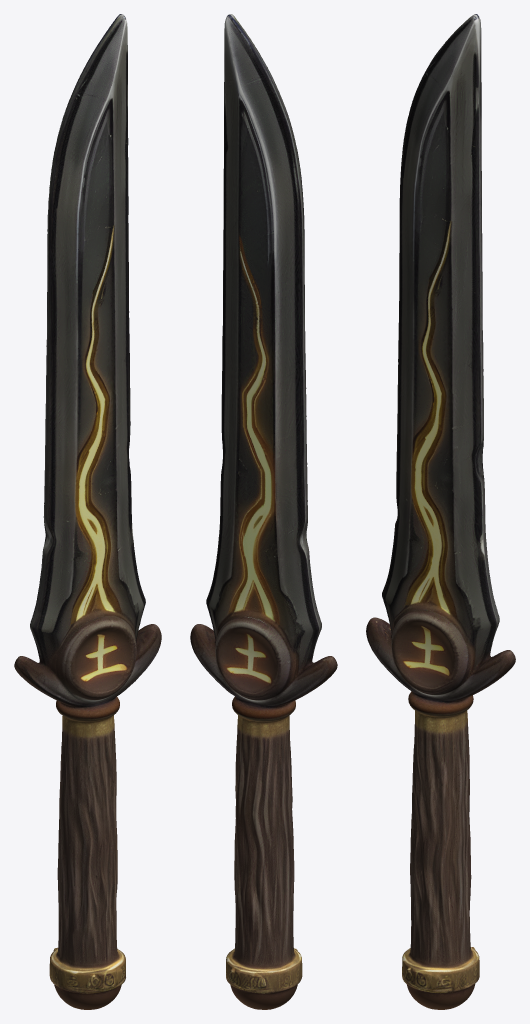
Rendered from 토검_texture.fbx.
The picture shows the model from 3 angles, left to right: view 1: azimuth 30°, elevation 25°; view 2: azimuth 150°, elevation 25°; view 3: azimuth 330°, elevation 25°; orthographic projection.
Visible parts, largest first — view 1: Mesh_0; view 2: Mesh_0; view 3: Mesh_0.
Boxes of the visible parts, <box> form: Mesh_0: <box>14,14,161,1009</box>; Mesh_0: <box>190,14,337,1009</box>; Mesh_0: <box>366,14,515,1009</box>.
Size of the model in its own units: 28.91 by 190 by 14.52.
1 material, 1 textured.
